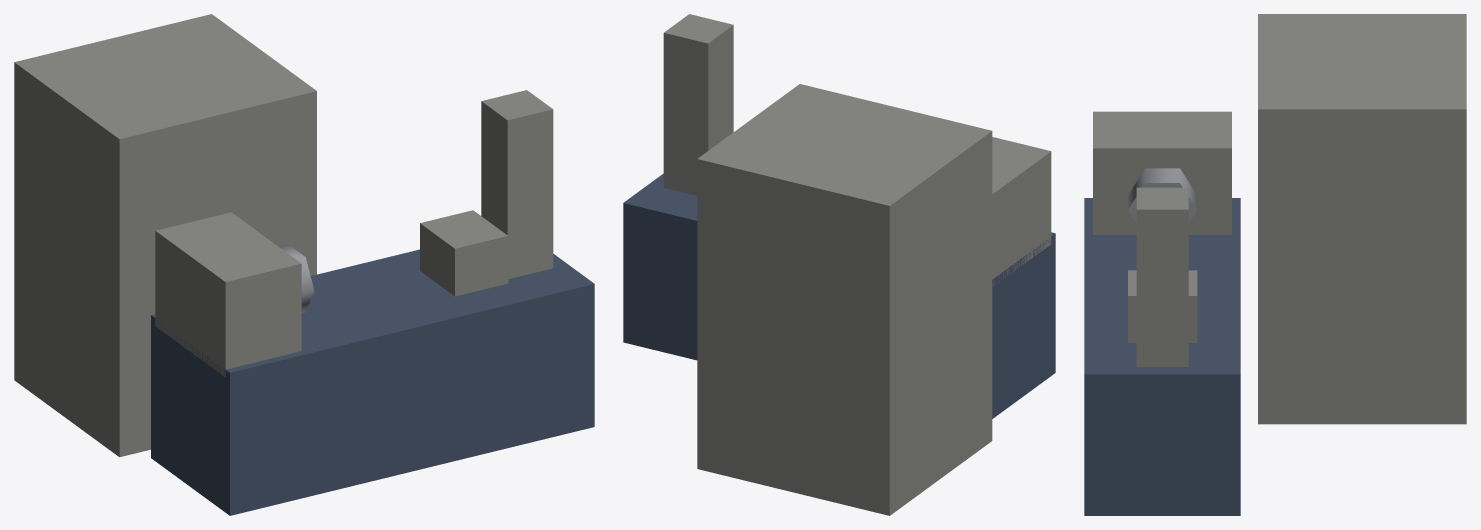
The model's file is ms1_fabricator.obj.
3 views of the same model, side by side, from view 1: azimuth 30°, elevation 25°; view 2: azimuth 150°, elevation 25°; view 3: azimuth 270°, elevation 25° (orthographic). The views are drawn at different scales.
Parts seen in each view (by area): view 1: ms1_fabricator; view 2: ms1_fabricator; view 3: ms1_fabricator.
Part boxes in pixels (<box>): ms1_fabricator: <box>14,14,594,515</box>; ms1_fabricator: <box>623,14,1055,515</box>; ms1_fabricator: <box>1084,14,1466,515</box>.
Size of the model in its own units: 2.55 by 2 by 2.2.
